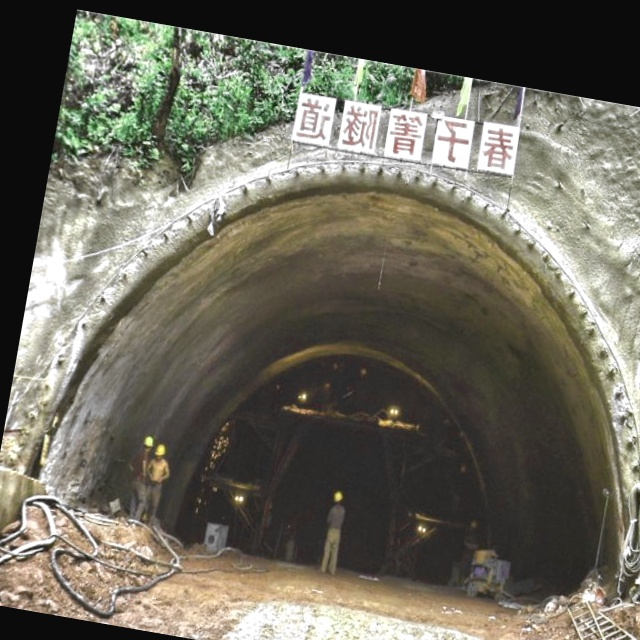Con_Casco: (153, 443, 167, 459), (143, 435, 155, 450), (333, 490, 343, 504)
